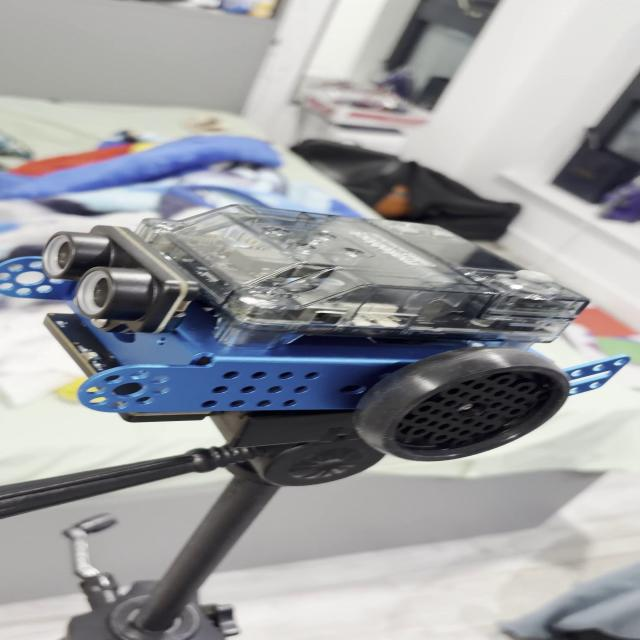mbot-detection: (0, 195, 637, 477)
